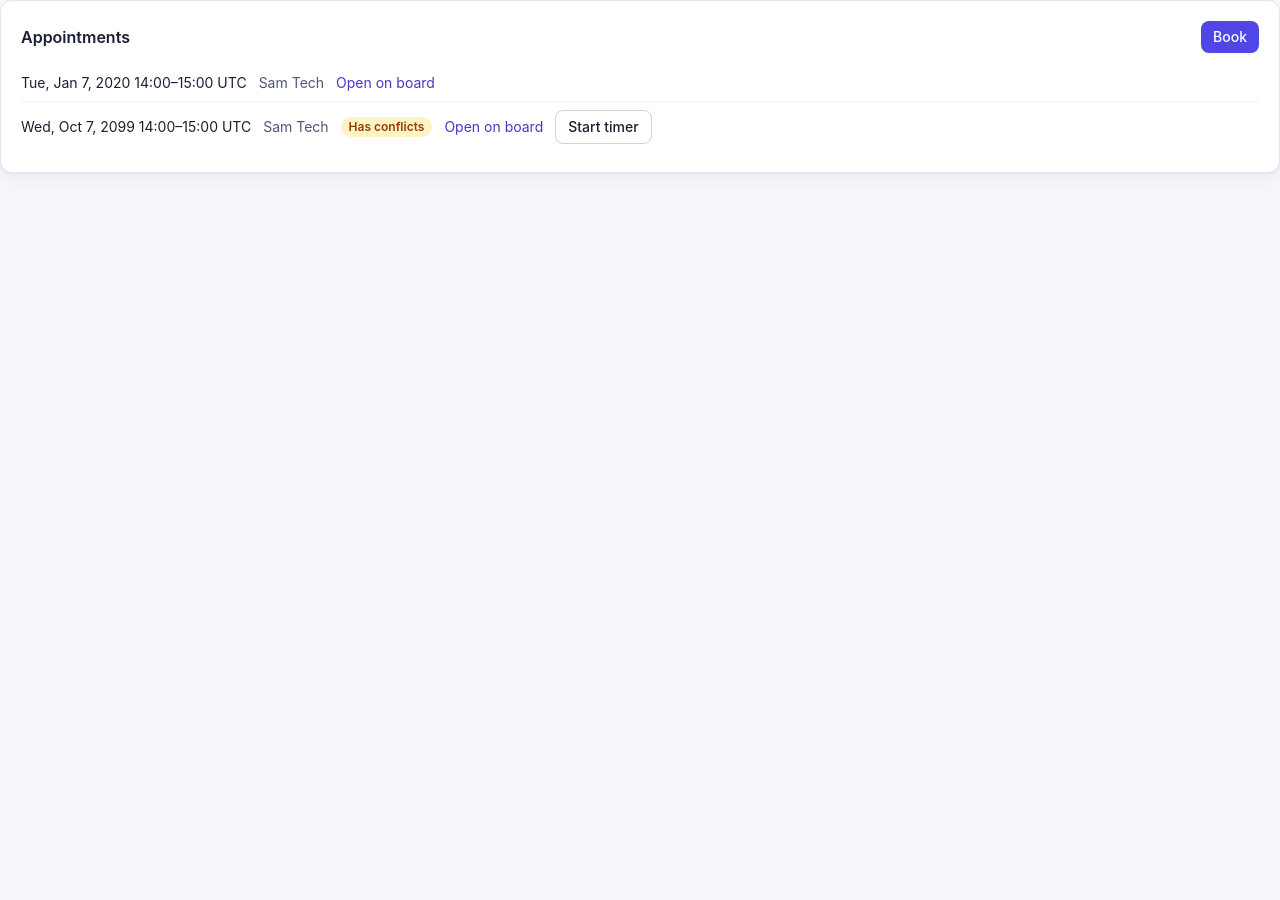
ticket appointments card › Book opens the booking dialog with the ticket fixed
Click the button "Book" at (1230, 37), box top-left (1201, 21), bottom-right (1259, 53)
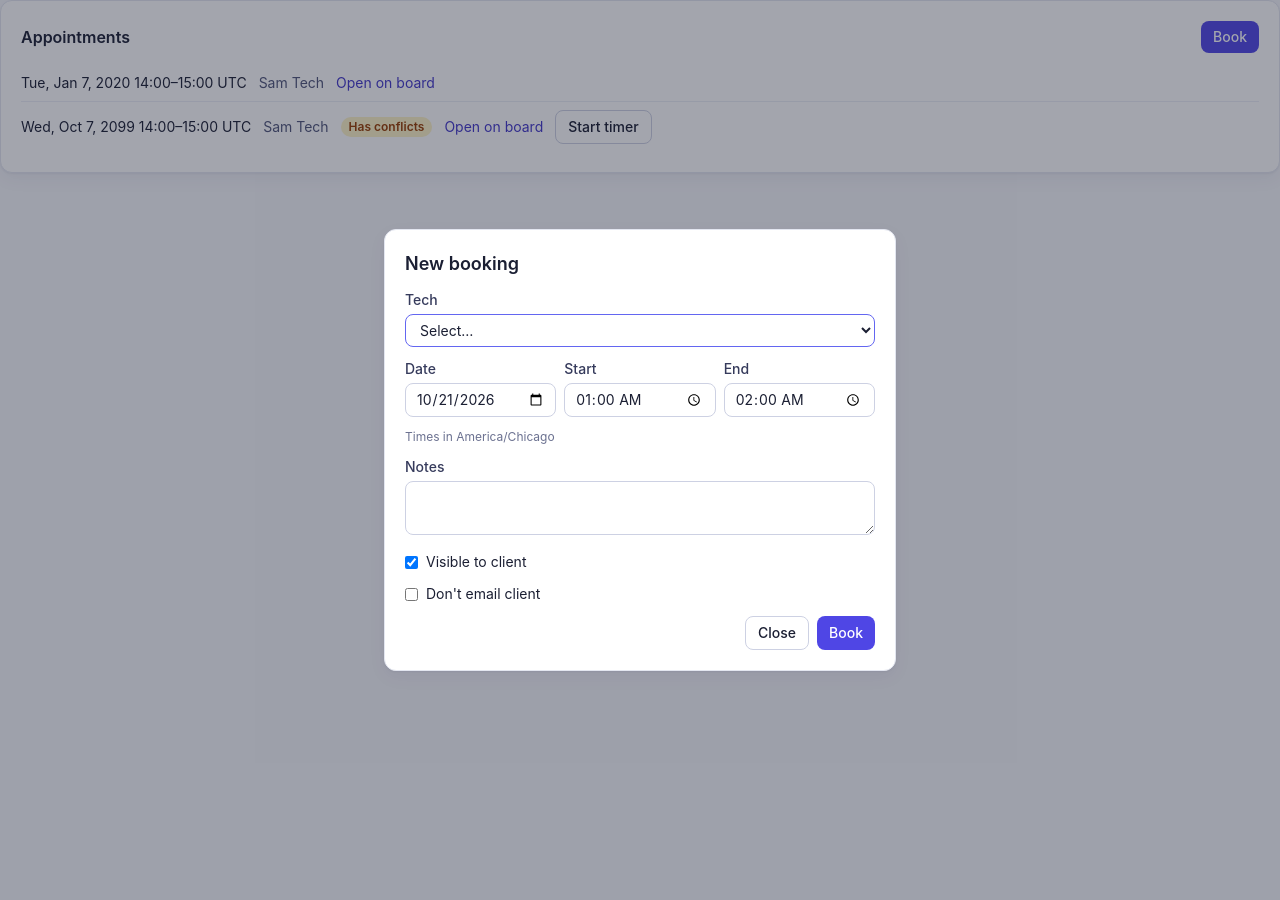
Now the dropdown labelled "Tech" is shown, box top-left (405, 314), bottom-right (875, 347)
